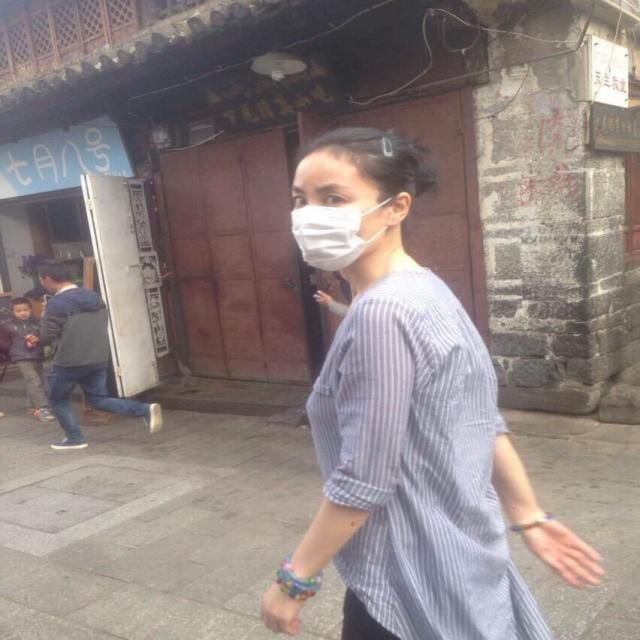mask: (290, 153, 370, 272)
